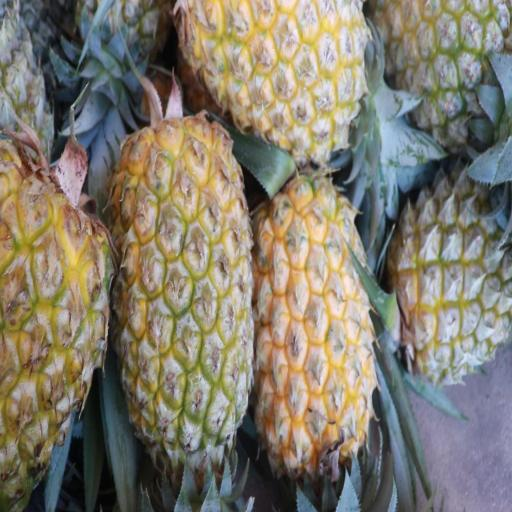------------------------------: (395, 164, 512, 378)
Pineapple - v8 v1: (116, 121, 250, 449), (0, 139, 111, 506), (254, 177, 376, 462), (187, 0, 368, 147), (377, 0, 512, 142)
